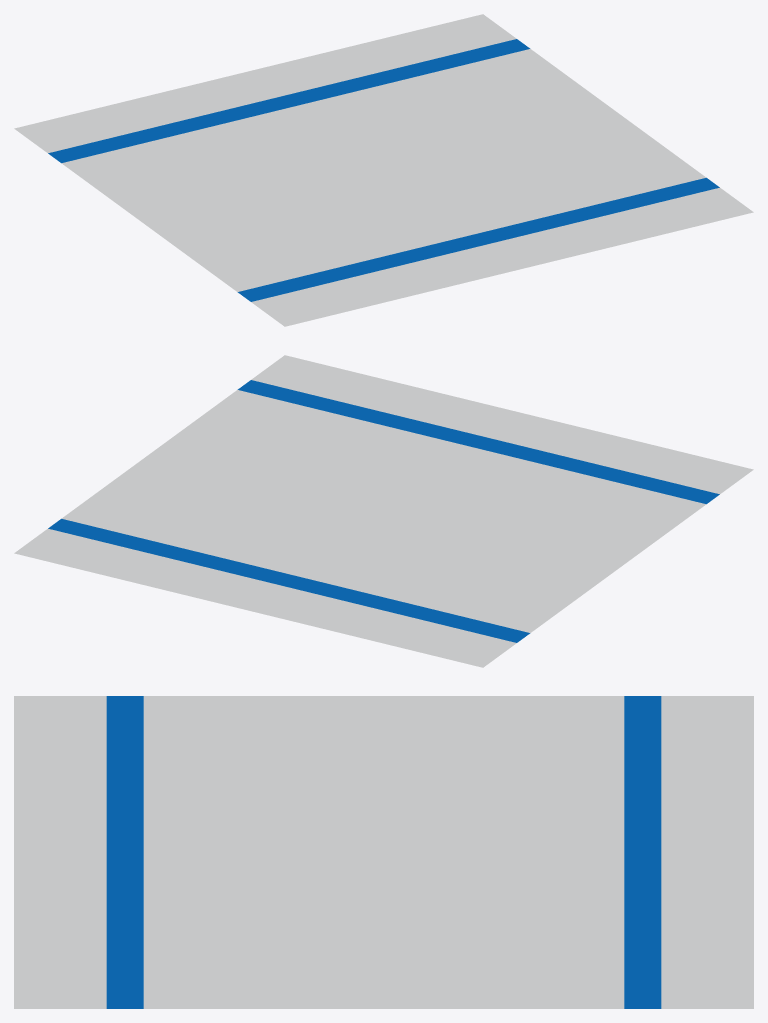
Rendered from Ceiling_type_A_043.fbx.
3 renders of one model, top to bottom at view 1: azimuth 30°, elevation 25°; view 2: azimuth 150°, elevation 25°; view 3: azimuth 270°, elevation 25°, orthographic. The views are drawn at different scales.
Parts seen in each view (by area): view 1: Ceiling_type_A_043; view 2: Ceiling_type_A_043; view 3: Ceiling_type_A_043.
Boxes of the visible parts, x1=… form: Ceiling_type_A_043: x1=14, y1=14, x2=753, y2=326; Ceiling_type_A_043: x1=14, y1=355, x2=753, y2=667; Ceiling_type_A_043: x1=14, y1=696, x2=753, y2=1008.
Size of the model in its own units: 400 by 400 by 1.2.
